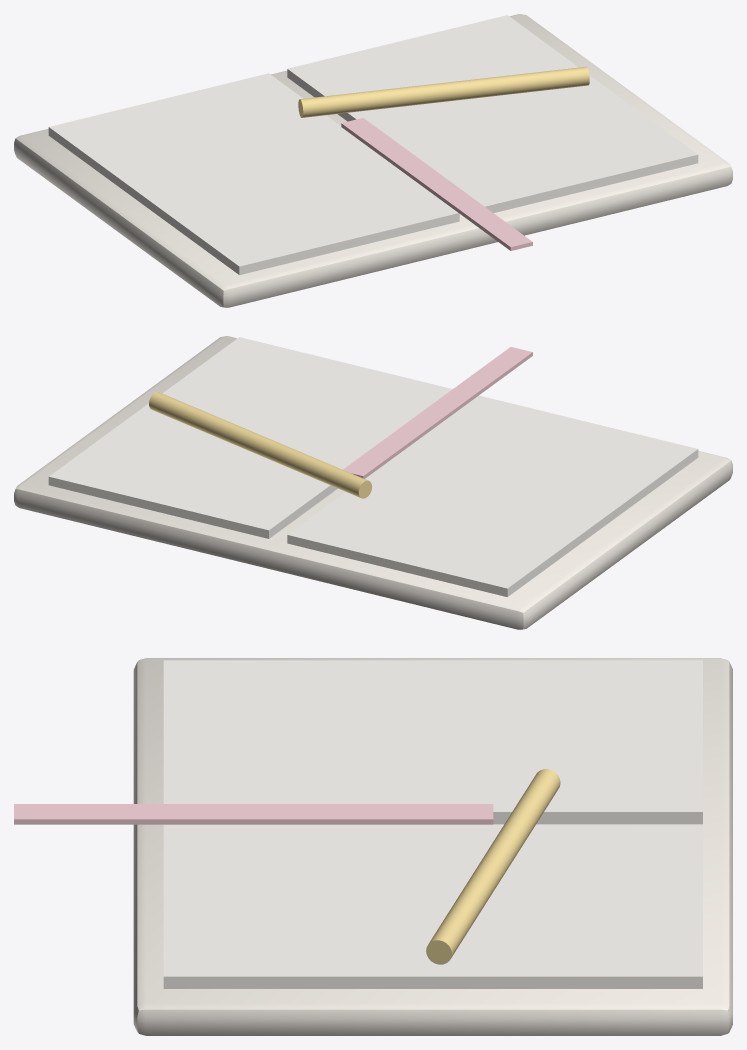
Rendered from client-wish-journal.glb.
3 renders of one model, top to bottom at view 1: azimuth 30°, elevation 25°; view 2: azimuth 150°, elevation 25°; view 3: azimuth 270°, elevation 25°, orthographic. The views are drawn at different scales.
Parts seen in each view (by area): view 1: journal_Page_L, journal_Page_R, journal_LinenCover, journal_BrassPen, journal_SilkBookmark; view 2: journal_Page_L, journal_Page_R, journal_LinenCover, journal_BrassPen, journal_SilkBookmark; view 3: journal_Page_R, journal_Page_L, journal_LinenCover, journal_SilkBookmark, journal_BrassPen.
Part boxes in pixels (bbox=[...]): journal_Page_L: bbox=[48, 73, 459, 274]; journal_Page_R: bbox=[287, 15, 698, 212]; journal_LinenCover: bbox=[14, 14, 732, 307]; journal_BrassPen: bbox=[298, 66, 589, 117]; journal_SilkBookmark: bbox=[341, 118, 532, 250]; journal_Page_L: bbox=[287, 395, 698, 596]; journal_Page_R: bbox=[48, 337, 452, 538]; journal_LinenCover: bbox=[14, 336, 732, 629]; journal_BrassPen: bbox=[149, 392, 371, 498]; journal_SilkBookmark: bbox=[343, 347, 532, 478]; journal_Page_R: bbox=[163, 824, 702, 988]; journal_Page_L: bbox=[163, 660, 702, 824]; journal_LinenCover: bbox=[133, 658, 732, 1035]; journal_SilkBookmark: bbox=[14, 804, 493, 824]; journal_BrassPen: bbox=[426, 769, 560, 964].
Bounding box in the file's own units: 0.28 × 0.0265 × 0.24.
